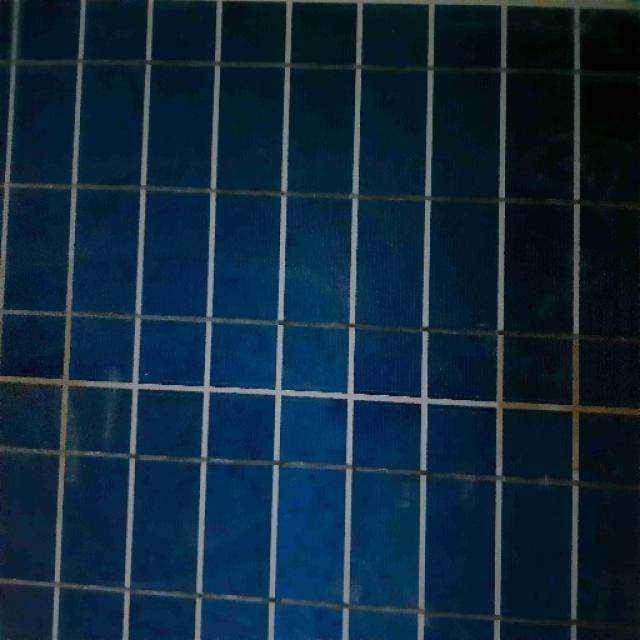Dirty: (0, 97, 633, 640)
